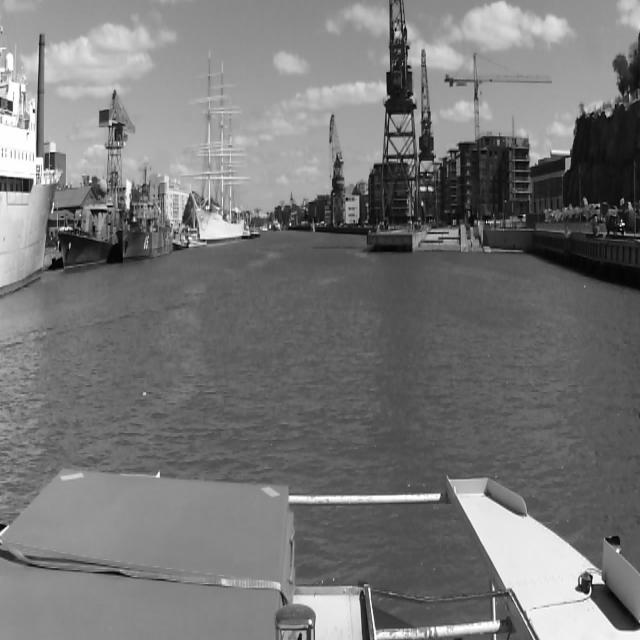ship: (0, 0, 55, 299), (197, 50, 245, 241), (118, 166, 173, 262), (58, 180, 114, 270), (272, 213, 282, 230)
